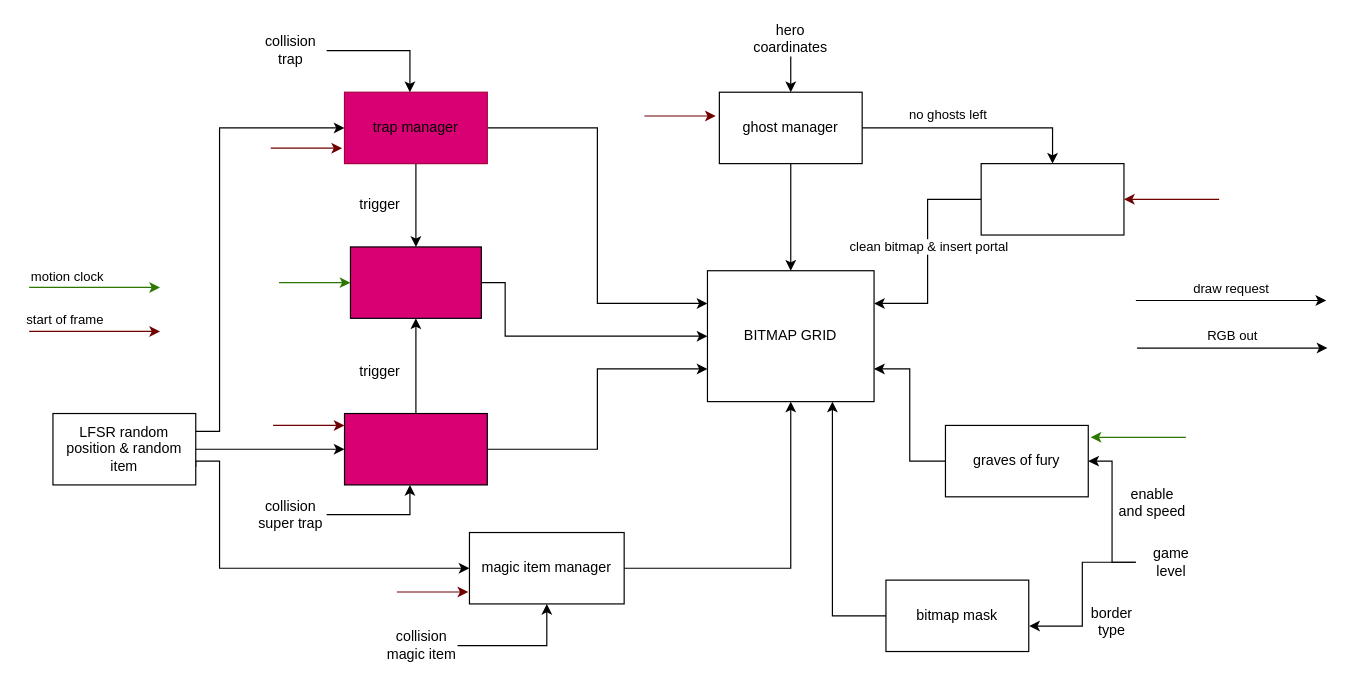
Image size: 1358x683. Some labels were removed from this diagram. Here are the shapes that lost their labels. From the top down, the centre of each, then its label:
pixel 1052 198: portal
pixel 415 282: ghost explosion manager
pixel 415 448: super trap manager
